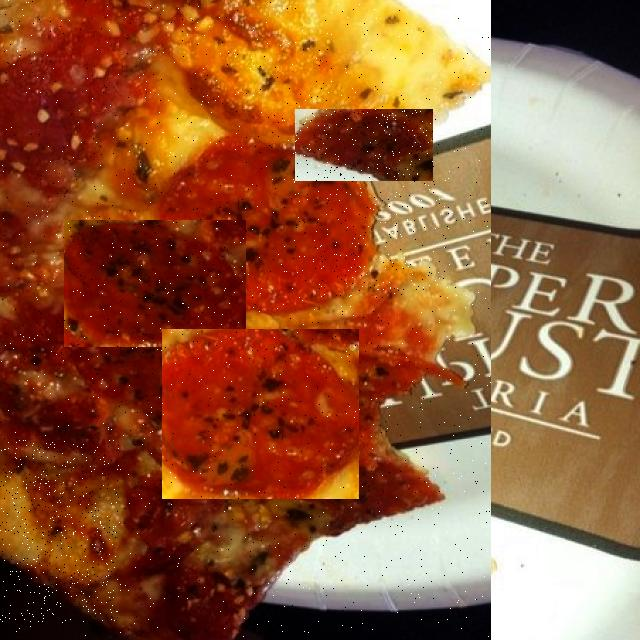Pepperoni: (162, 329, 359, 499), (64, 220, 246, 347), (0, 440, 119, 623), (292, 178, 450, 298), (295, 109, 433, 181)
Pizza: (0, 0, 491, 640)
